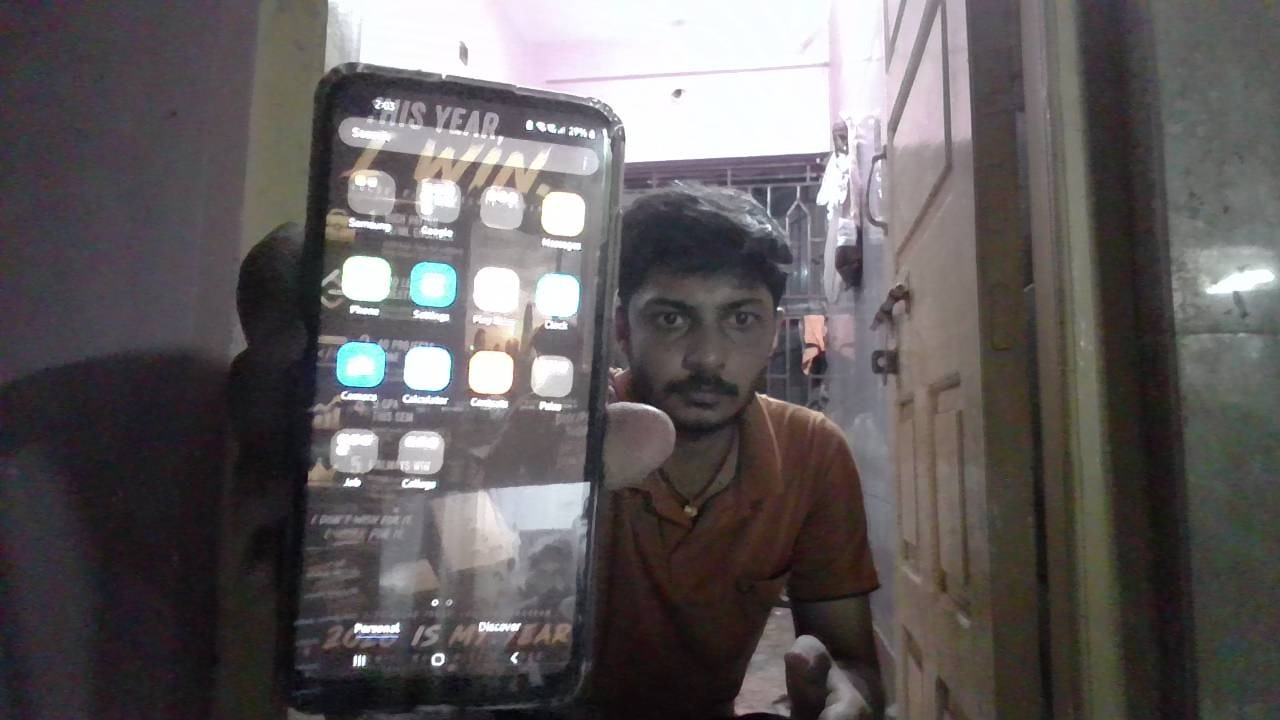red_box: (714, 417, 862, 562)
